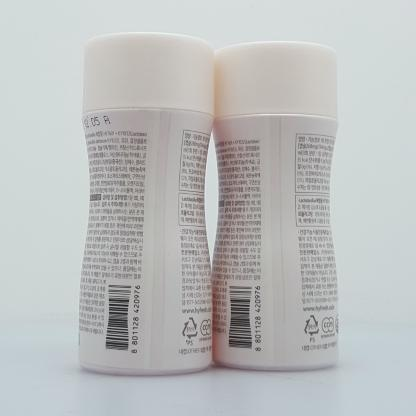------LOOK------170ML: (78, 31, 214, 375), (209, 41, 338, 371)
